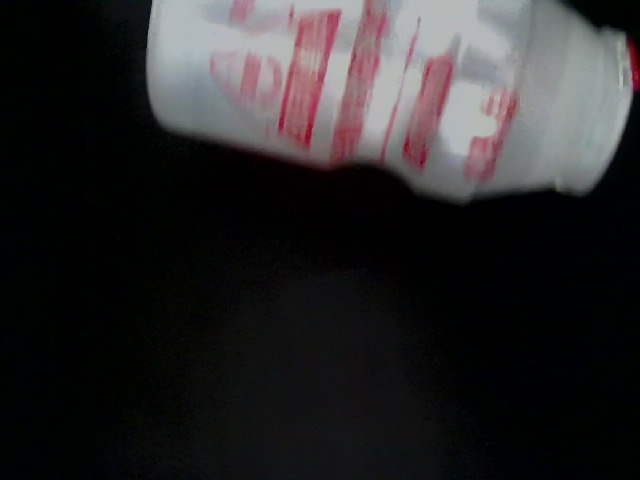CYLJ: (19, 285, 388, 480)
